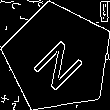N_NE: (26, 26, 90, 90)
